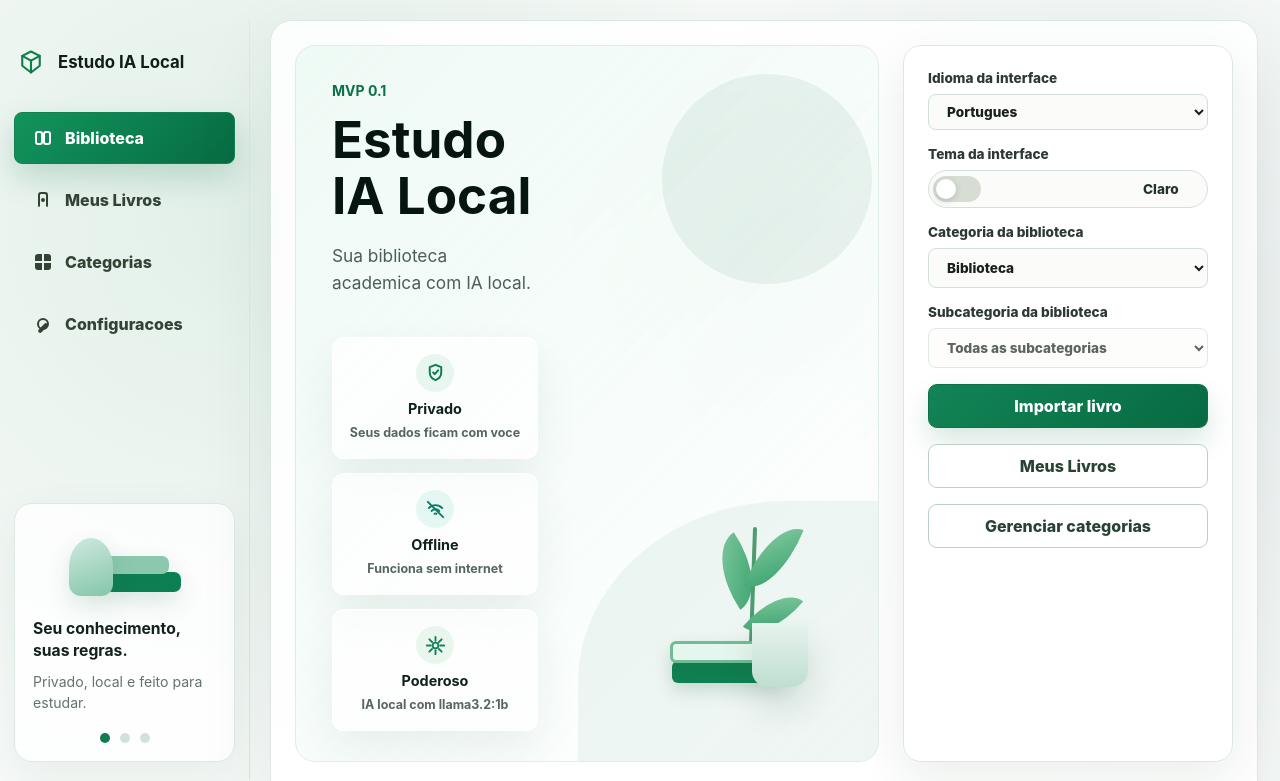
App › creates a custom study category and offers it during import
The width and height of the screenshot is (1280, 781).
Click the button "Gerenciar categorias" at [1068, 526], box 928,504 -> 1208,548
(page scrolled)
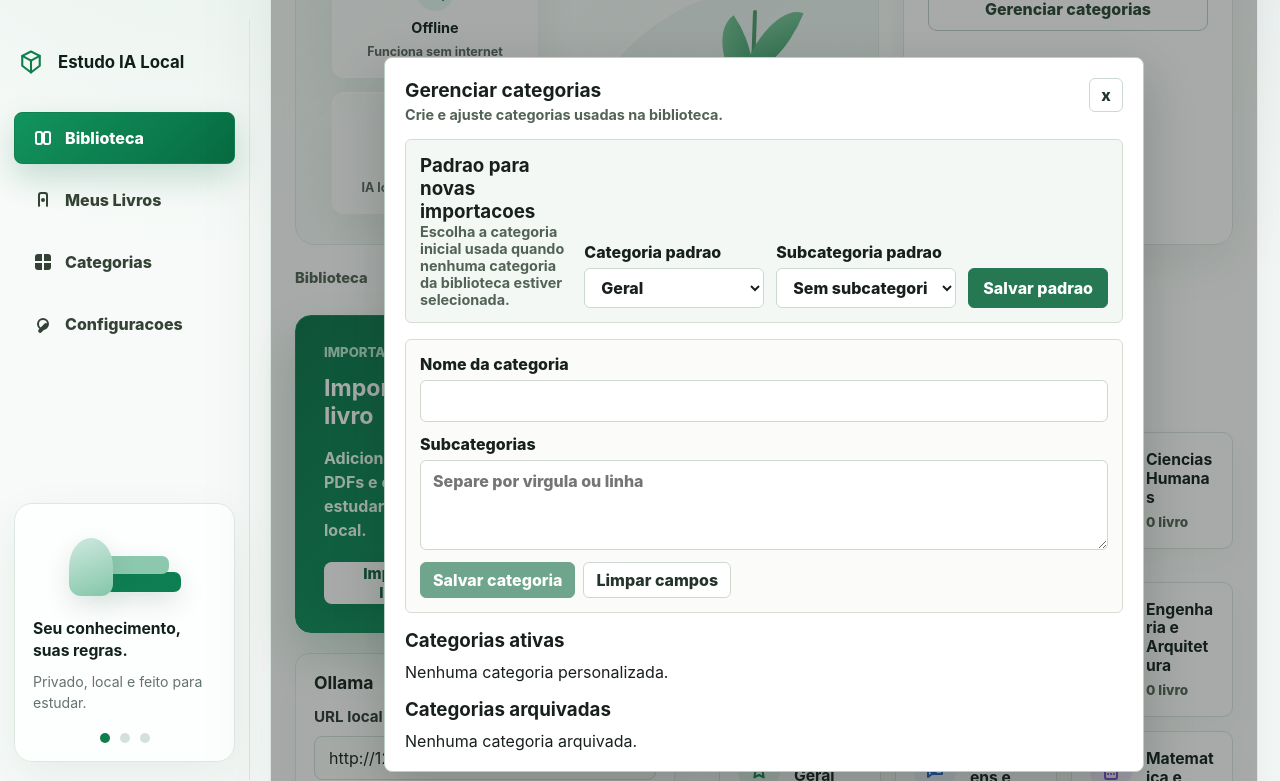
Type "Ciberseguranca" into the field labelled "Nome da categoria" at [764, 401], box 420,380 -> 1108,422
Type "Pentest" into the text box labelled "Subcategorias" at [764, 505], box 420,460 -> 1108,550
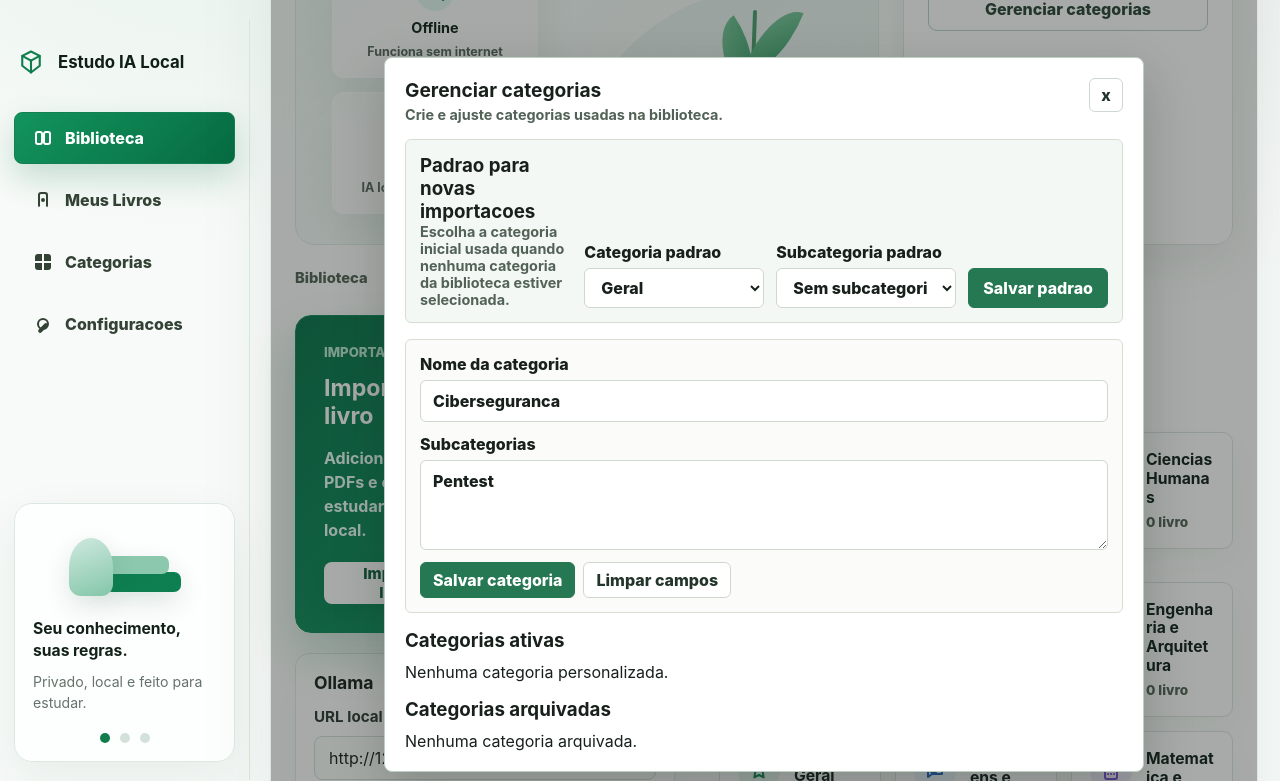
Click the button "Salvar categoria" at [498, 580], box 420,562 -> 576,598
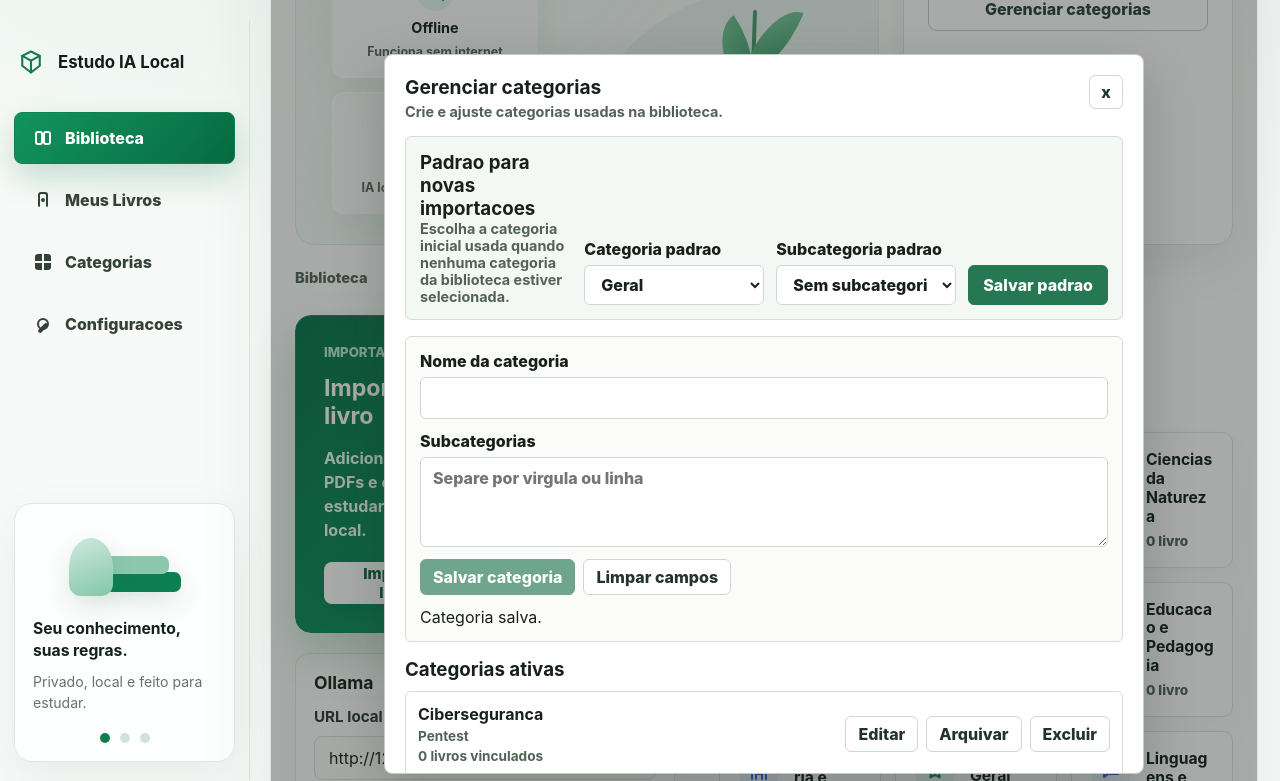
Click the button named "Fechar categorias" at [1106, 92], box 1089,75 -> 1123,109
(page scrolled)
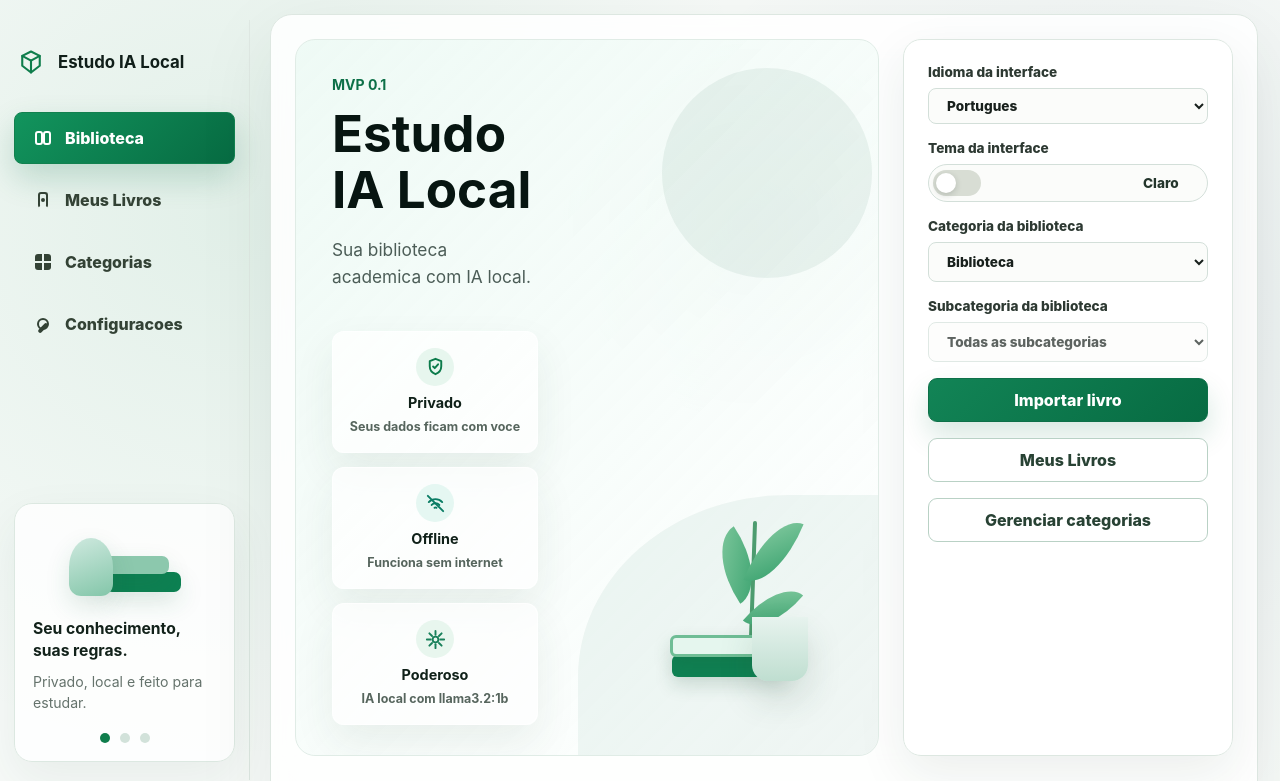
Click the button "Importar livro" at [1068, 400], box 928,378 -> 1208,422
(page scrolled)
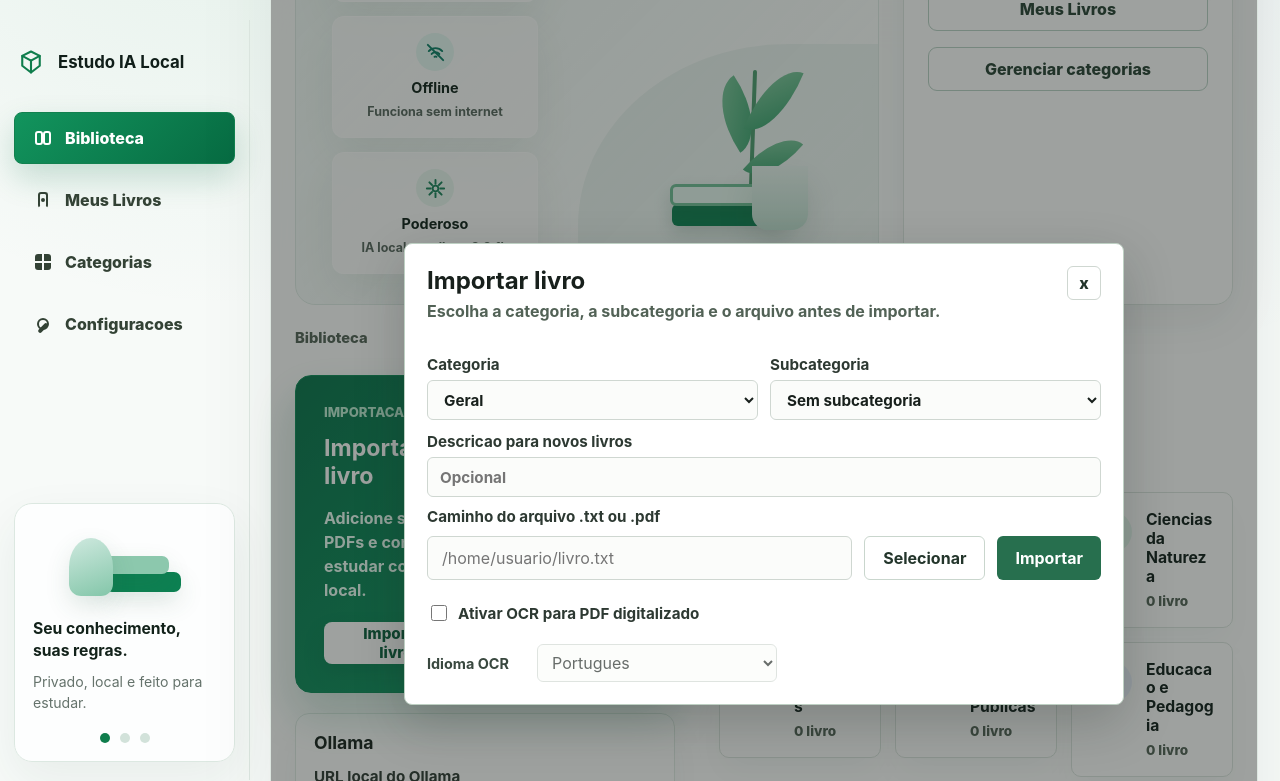
Expected: the dropdown labelled "Categoria" shows "Geral"
Select "Ciberseguranca" in the dropdown labelled "Categoria" at [592, 400], box 427,380 -> 758,420
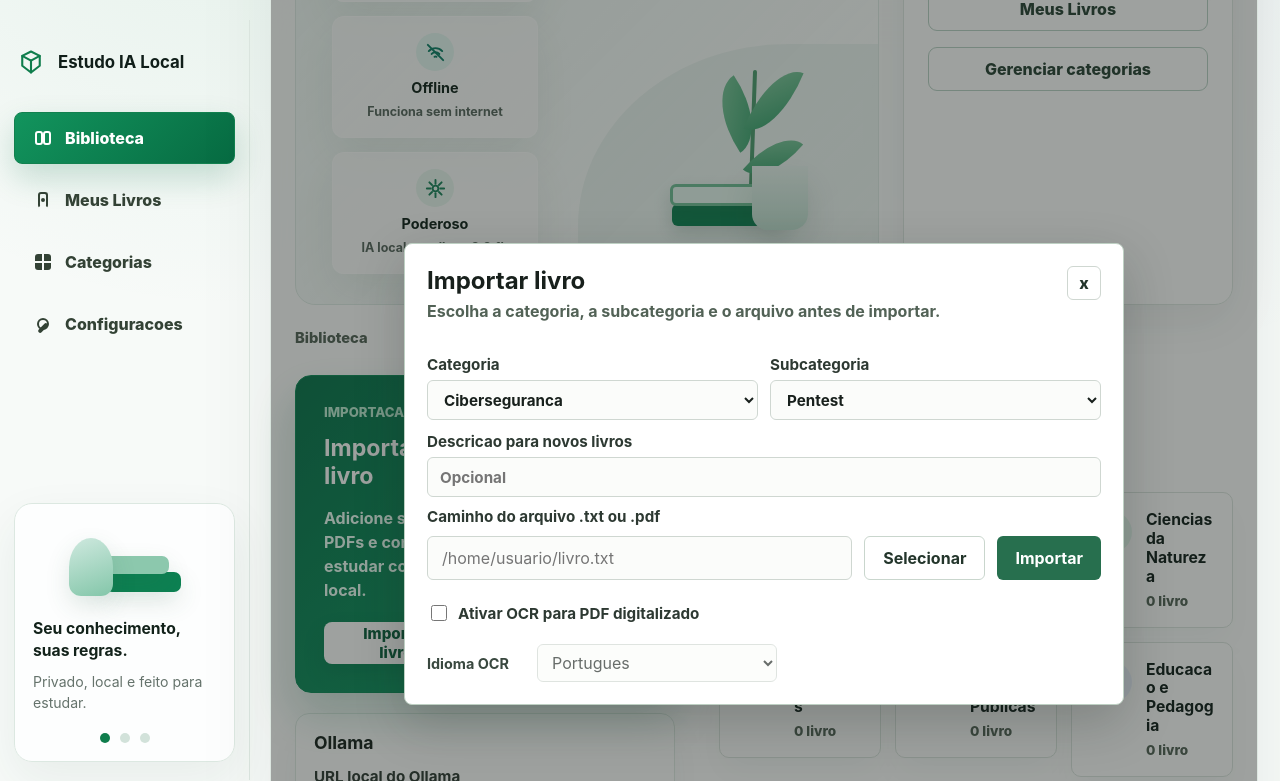
Expected: the dropdown labelled "Subcategoria" shows "Pentest", 770,380 -> 1101,420
